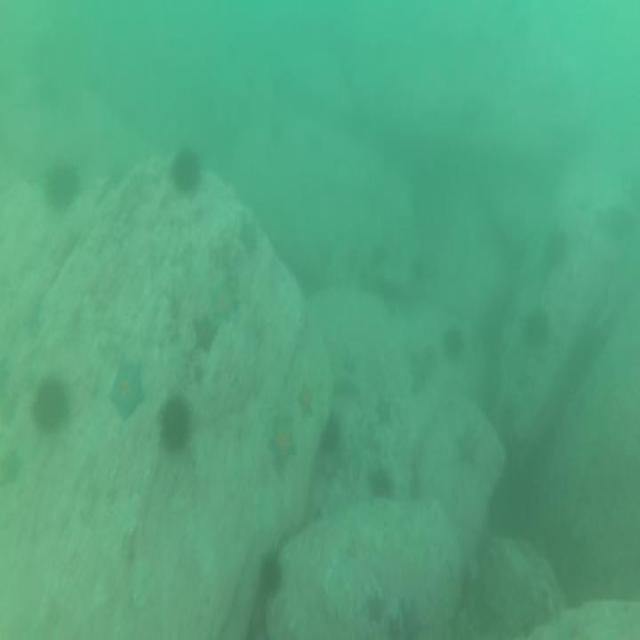echinus: (26, 372, 74, 442), (40, 152, 84, 213), (153, 394, 195, 456), (168, 142, 204, 201), (257, 545, 284, 605), (542, 221, 571, 270), (366, 462, 398, 506), (316, 412, 344, 458), (440, 319, 466, 367), (524, 304, 550, 349)
starfish: (106, 354, 146, 427), (266, 412, 300, 480), (191, 308, 221, 357), (454, 419, 482, 471), (396, 596, 424, 640), (0, 443, 23, 496), (236, 212, 260, 260), (364, 585, 390, 629), (295, 379, 317, 425), (372, 392, 396, 431), (383, 611, 405, 640)
